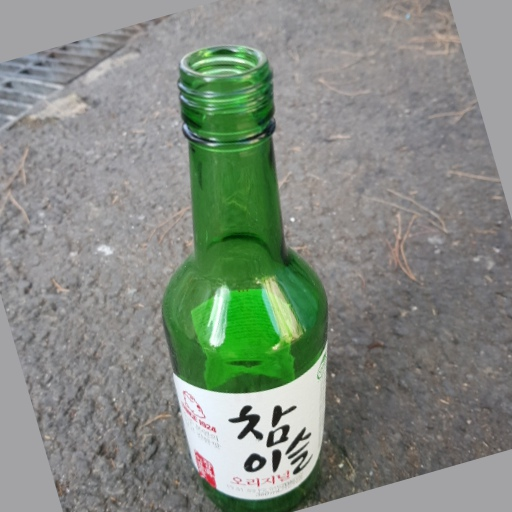Glass_0: (158, 45, 332, 506)
